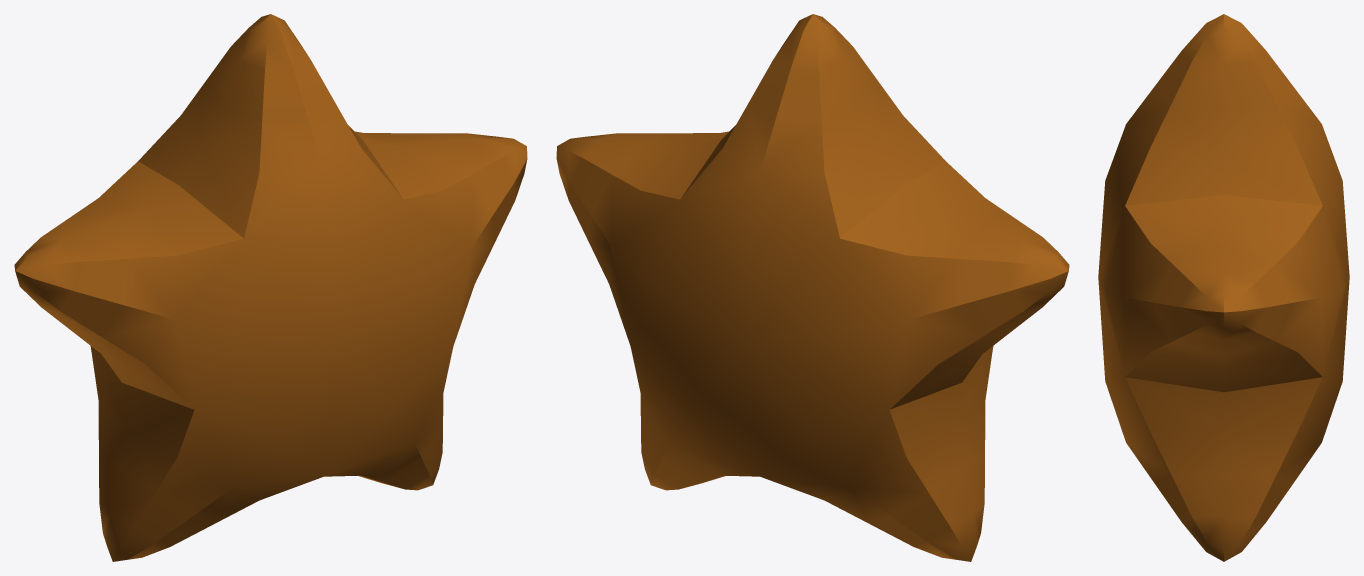
Rendered from star.obj.
3 views of the same model, side by side, from view 1: azimuth 30°, elevation 25°; view 2: azimuth 150°, elevation 25°; view 3: azimuth 270°, elevation 25° (orthographic). The views are drawn at different scales.
Visible parts, largest first — view 1: Star_Cylinder.000; view 2: Star_Cylinder.000; view 3: Star_Cylinder.000.
Boxes of the visible parts, x1,y1,x2,y2 form: Star_Cylinder.000: (14, 14, 527, 561); Star_Cylinder.000: (556, 14, 1069, 561); Star_Cylinder.000: (1098, 14, 1349, 561).
Size of the model in its own units: 1.51 by 1.44 by 0.6879.
